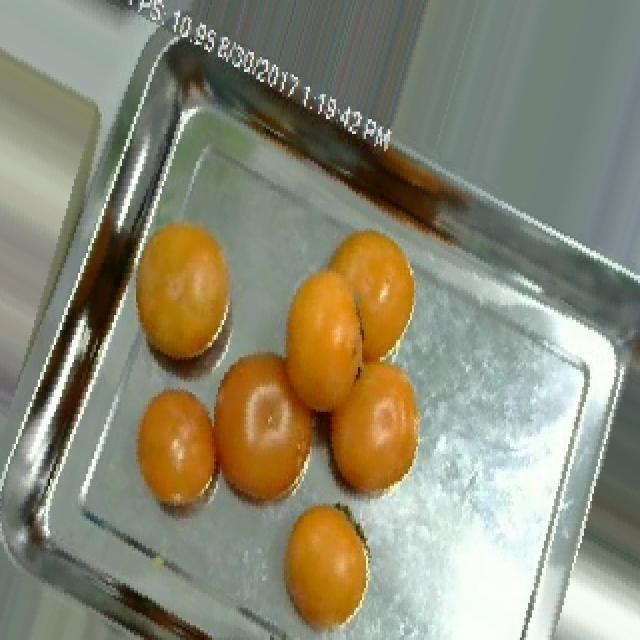Fruit: (266, 208, 436, 404), (196, 328, 348, 538), (112, 193, 256, 392), (302, 337, 446, 521), (112, 367, 242, 543), (264, 483, 384, 640)
